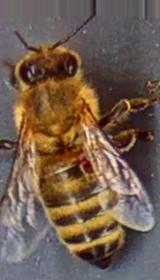varroa_mite: (77, 147, 104, 176)
